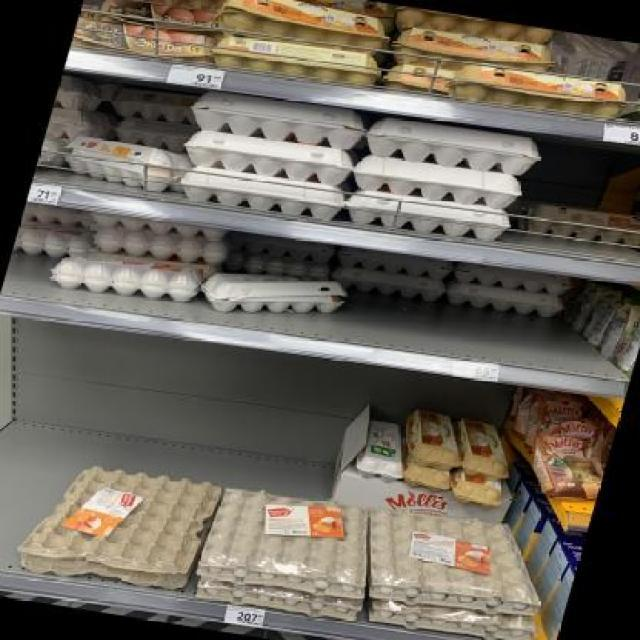Egg: (437, 56, 636, 126), (389, 22, 568, 86), (213, 0, 396, 57), (511, 195, 639, 255), (71, 16, 218, 67), (517, 430, 611, 506), (445, 414, 521, 482), (395, 406, 473, 472), (94, 0, 228, 38), (517, 391, 591, 455), (354, 419, 416, 483), (595, 300, 639, 373), (91, 0, 247, 17), (385, 61, 458, 97), (446, 473, 509, 509), (402, 465, 452, 493)
